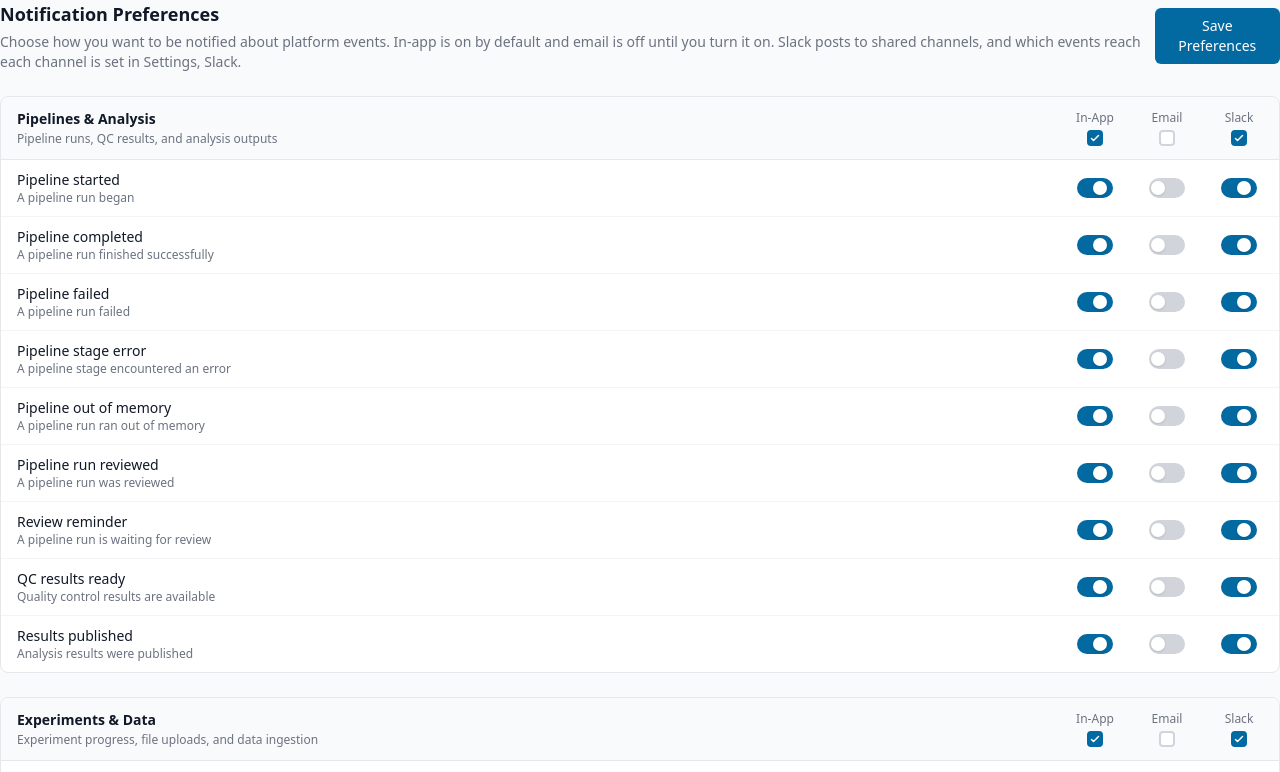
Scenario: saves the current preferences
Expected: the text "Pipeline completed" is shown, left=17, top=227, right=143, bottom=246
Click the button "Save Preferences" at x=1217, y=36, box left=1155, top=8, right=1279, bottom=64
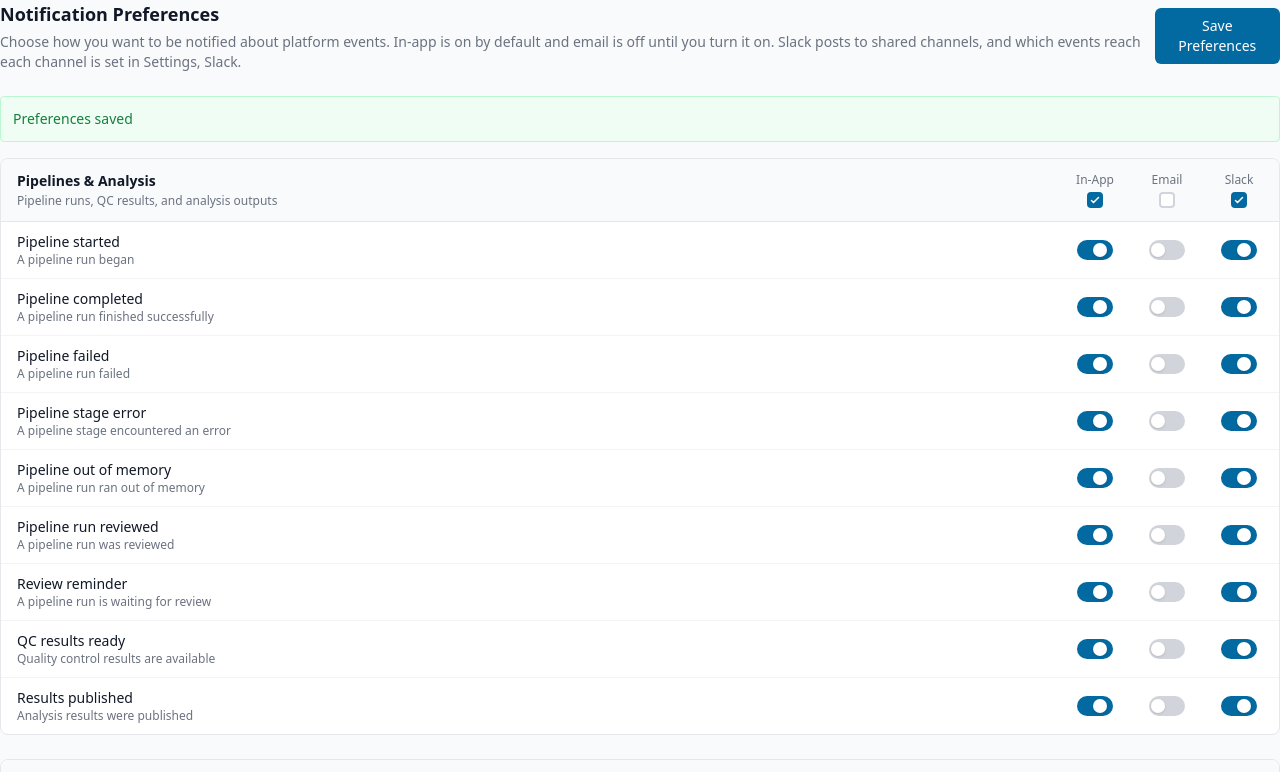
Now the text "Preferences saved" is shown, box left=0, top=96, right=1279, bottom=142
